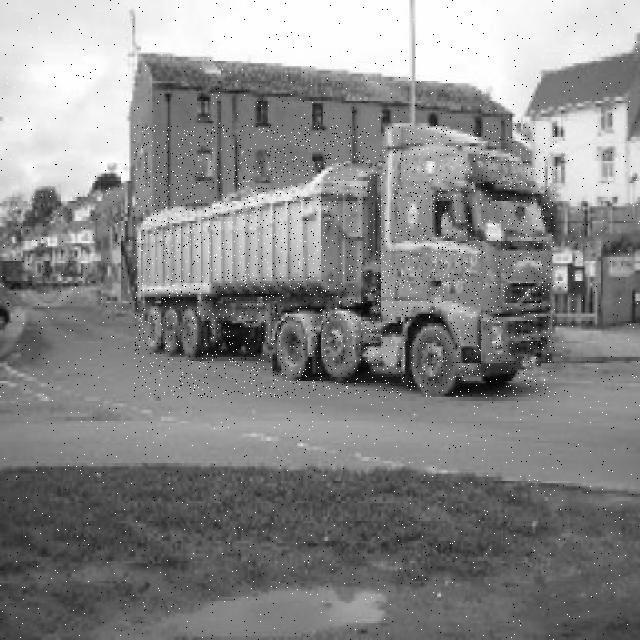Box Truck: (134, 125, 555, 398)
